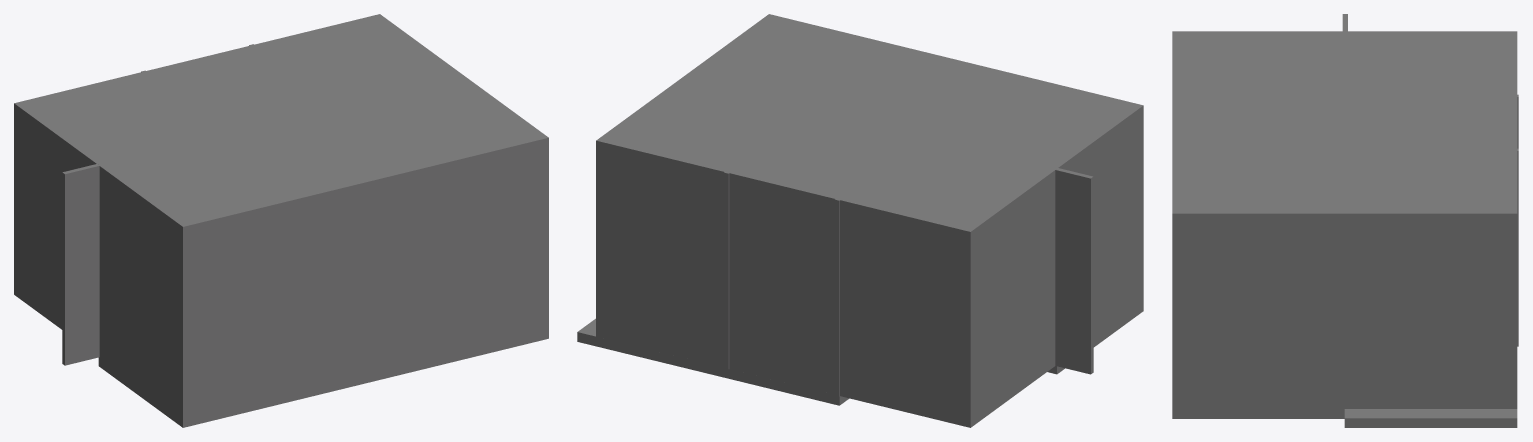
The model's file is hauntedcastle.glb.
The picture shows the model from 3 angles, left to right: view 1: azimuth 30°, elevation 25°; view 2: azimuth 150°, elevation 25°; view 3: azimuth 270°, elevation 25°; orthographic projection. The views are drawn at different scales.
Parts seen in each view (by area): view 1: Walls1_tcollider, Floor1_entry_tcollider.004, Floor1_entry_tcollider.001; view 2: Walls1_tcollider, Floor1_entry_tcollider.004, Floor1_entry_tcollider.003, Floor1_entry_tcollider, Floor1_entry_tcollider.005, Floor1_entry_tcollider.007, Floor1_entry_tcollider.001; view 3: Walls1_tcollider, Floor1_entry_tcollider.003, Floor1_entry_tcollider.001, Floor1_entry_tcollider.007.
Part boxes in pixels (<box>): Walls1_tcollider: <box>14,14,548,418</box>; Floor1_entry_tcollider.004: <box>62,164,99,365</box>; Floor1_entry_tcollider.001: <box>98,329,548,427</box>; Walls1_tcollider: <box>596,14,1143,427</box>; Floor1_entry_tcollider.004: <box>1055,168,1093,374</box>; Floor1_entry_tcollider.003: <box>577,318,727,378</box>; Floor1_entry_tcollider: <box>727,369,849,405</box>; Floor1_entry_tcollider.005: <box>834,199,839,396</box>; Floor1_entry_tcollider.007: <box>724,172,729,369</box>; Floor1_entry_tcollider.001: <box>1047,301,1143,374</box>; Walls1_tcollider: <box>1172,31,1517,408</box>; Floor1_entry_tcollider.003: <box>1344,409,1517,427</box>; Floor1_entry_tcollider.001: <box>1172,409,1344,418</box>; Floor1_entry_tcollider.007: <box>1517,148,1518,346</box>.
Bounding box in the file's own units: 22.89 × 10.5 × 16.07.
1 material, 1 textured.
